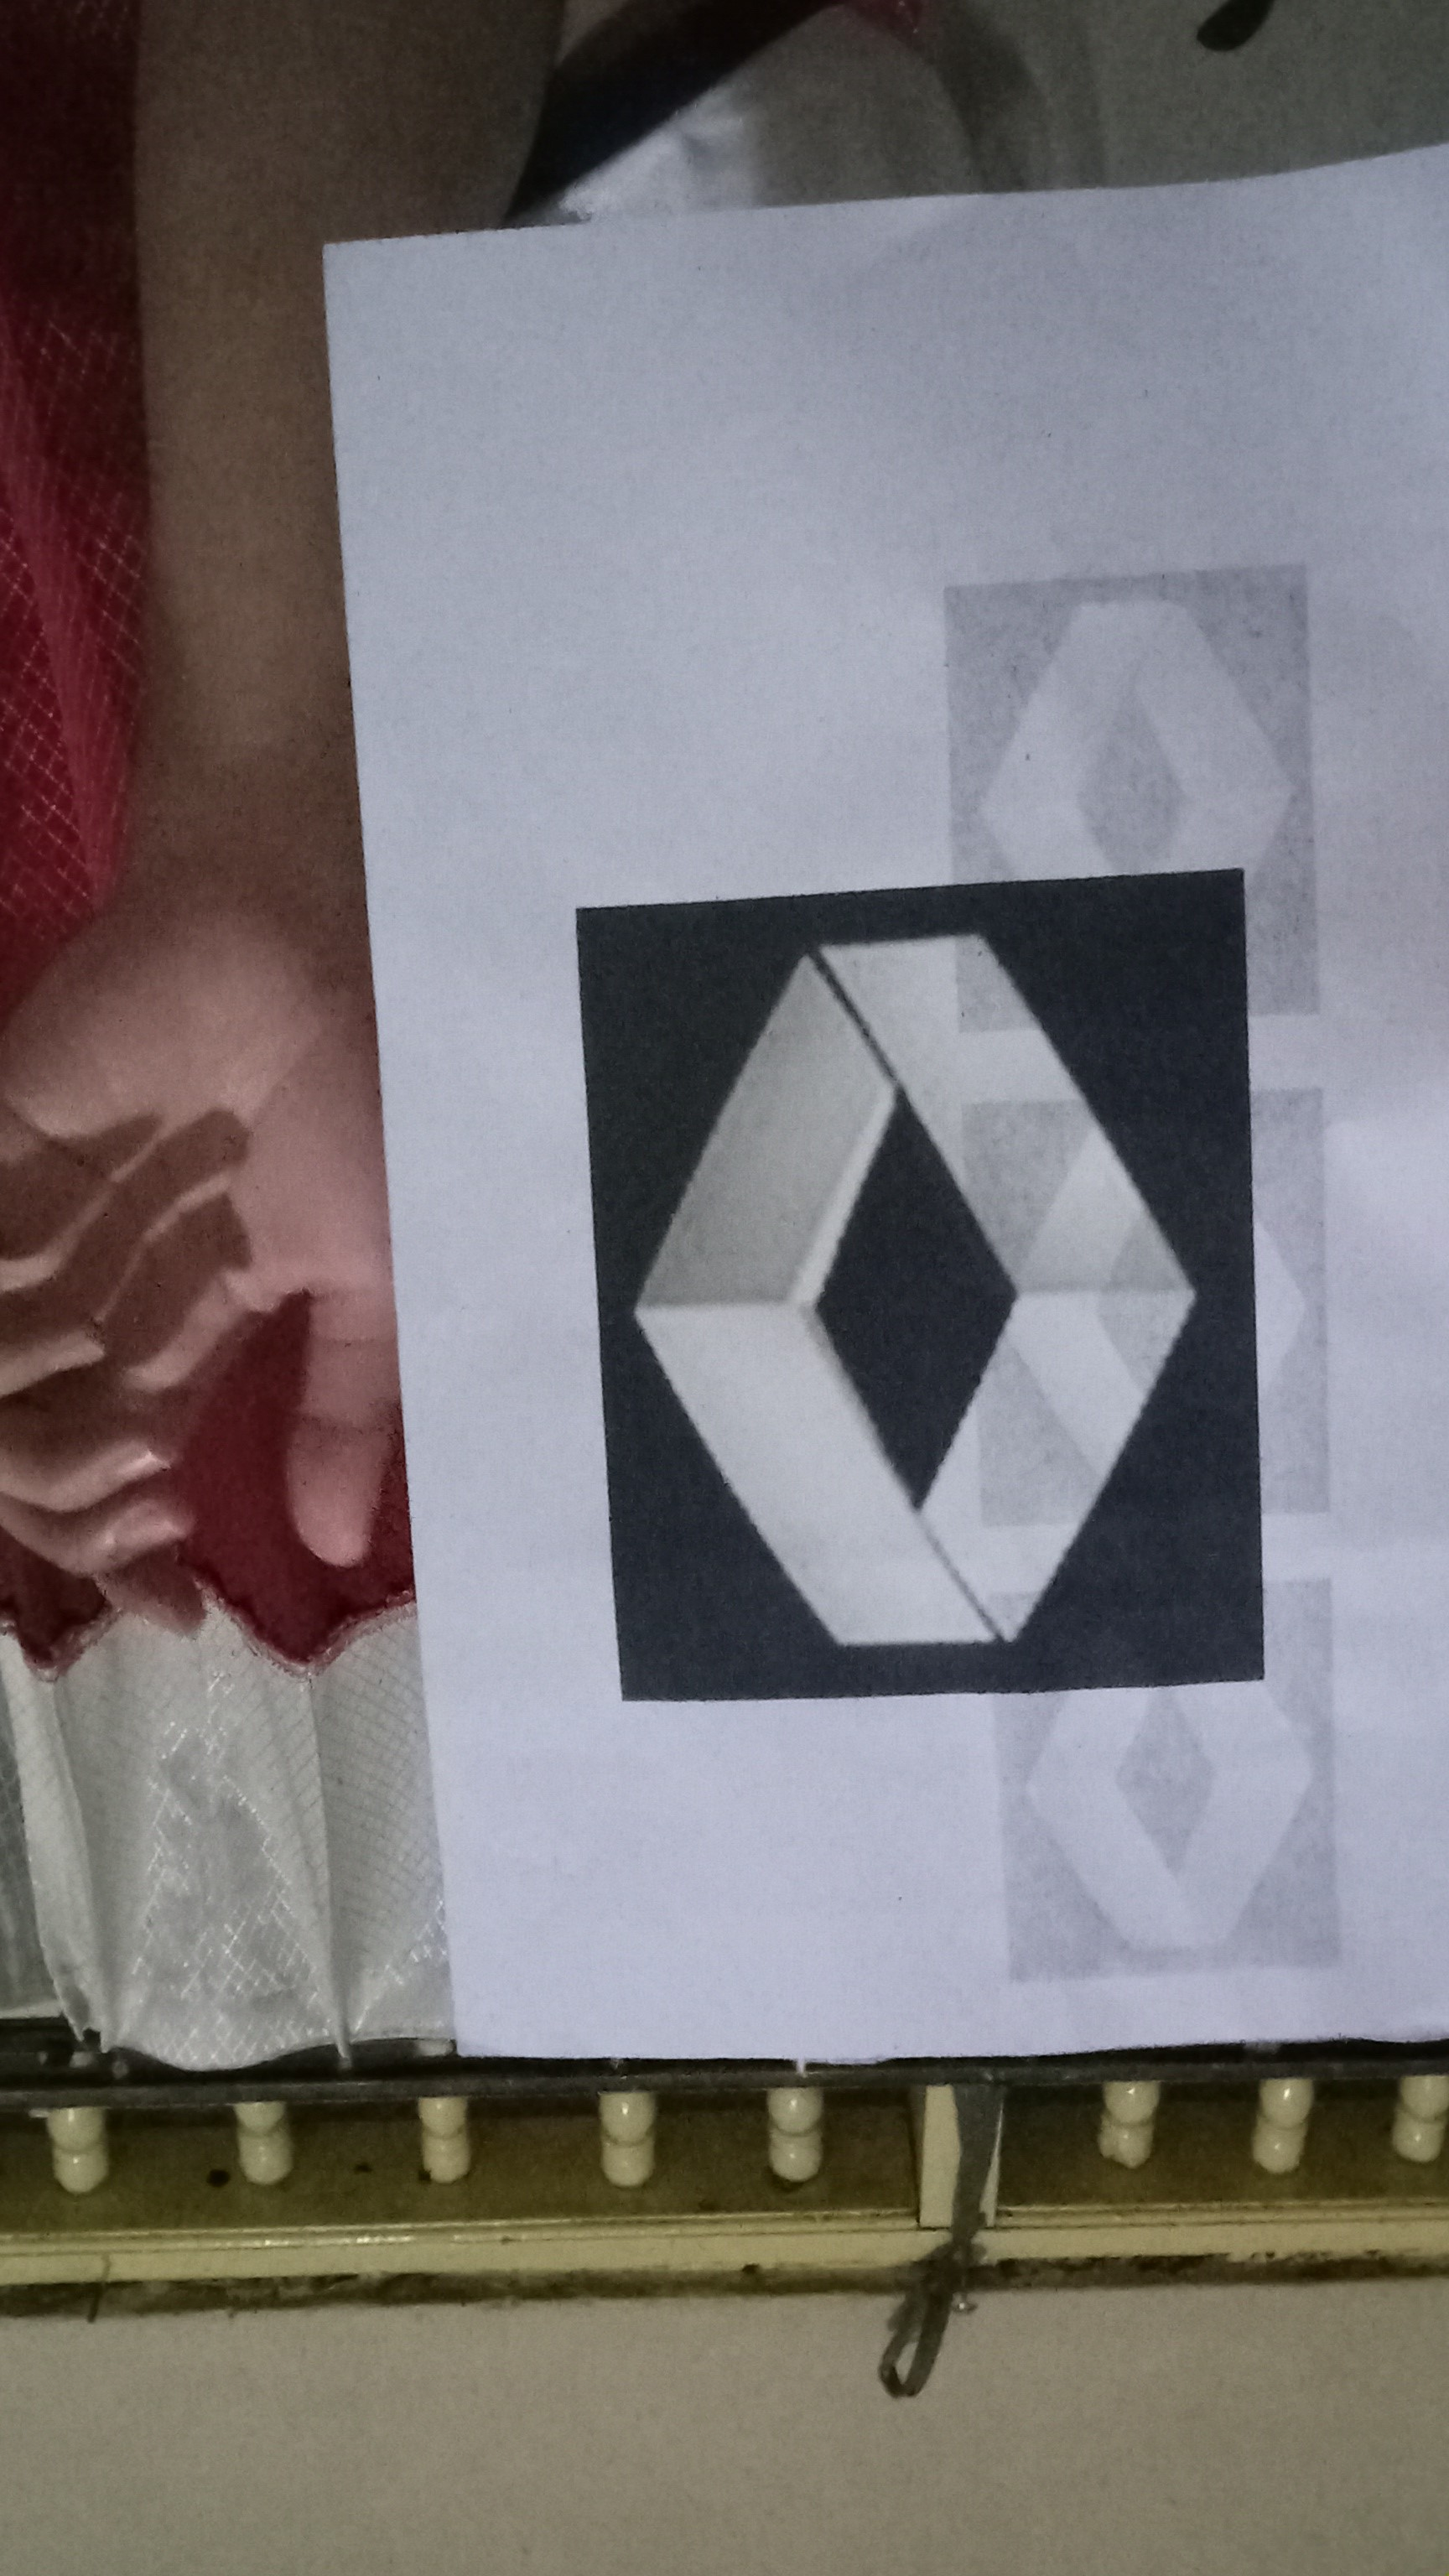Renault: (594, 918, 1231, 1675)
